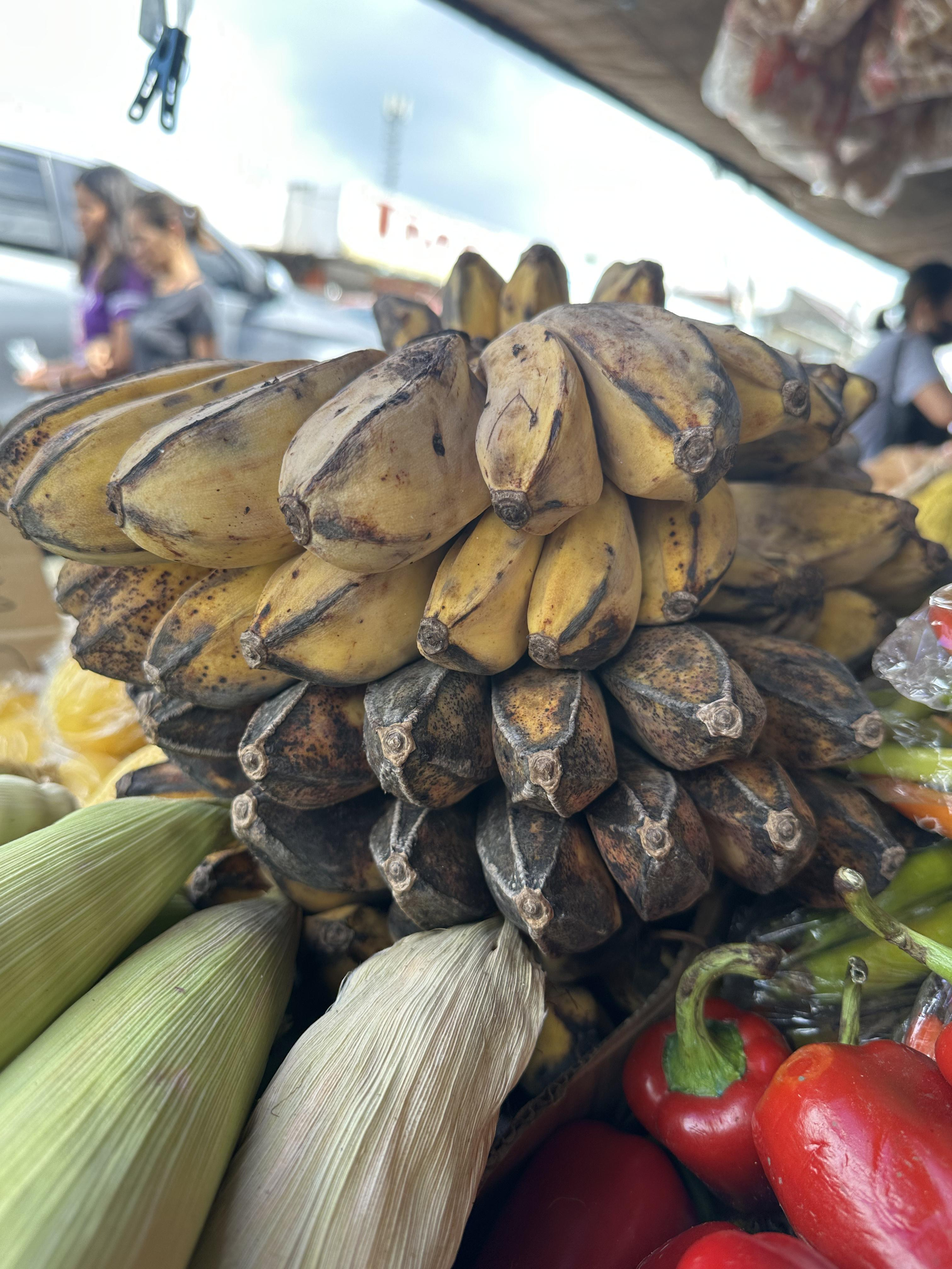overripe: (117, 621, 909, 958)
ripe: (0, 301, 841, 713)
